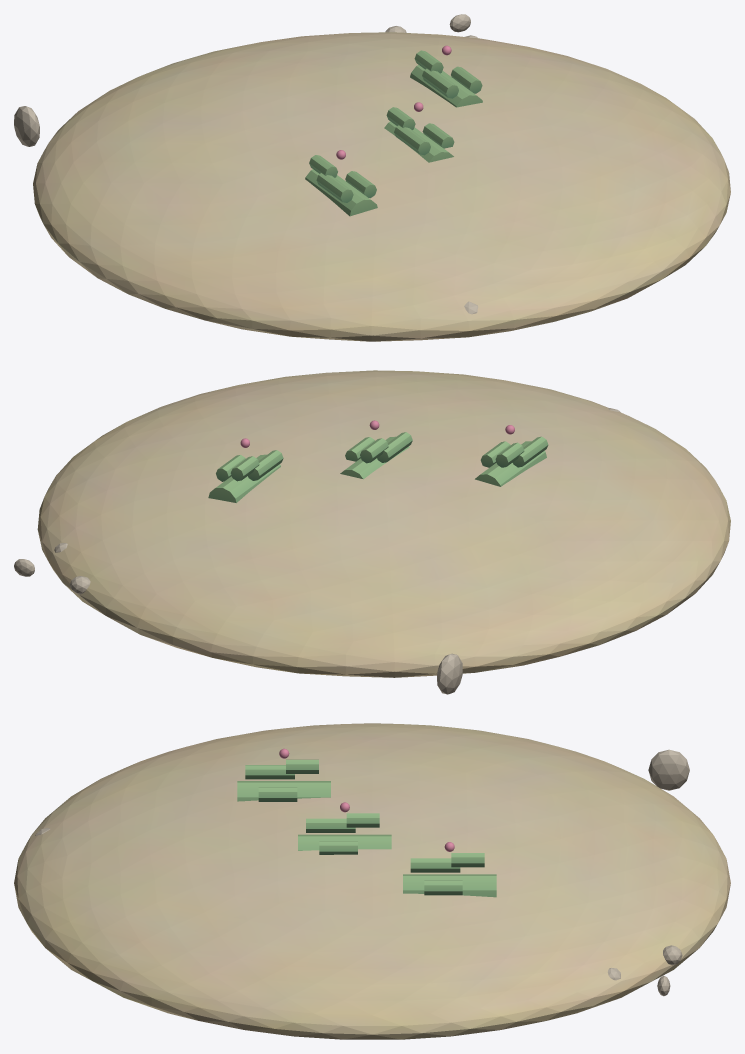
Rendered from desert-fauna.glb.
3 views of the same model, one above another, from view 1: azimuth 30°, elevation 25°; view 2: azimuth 150°, elevation 25°; view 3: azimuth 270°, elevation 25° (orthographic). The views are drawn at different scales.
Visible parts, largest first — view 1: dune, cactus_body_1, cactus_body_2, rock_1, cactus_arm_1_1, cactus_arm_2_1, cactus_body_0, cactus_arm_0_1; view 2: dune, cactus_body_2, cactus_body_1, rock_1, cactus_body_0, cactus_arm_0_1; view 3: dune, cactus_body_2, rock_1, cactus_body_1, cactus_body_0, cactus_arm_2_1, cactus_arm_0_1, cactus_arm_1_1, cactus_arm_2_0, cactus_arm_1_0, cactus_arm_0_0.
Part boxes in pixels (bbox=[...]): dune: bbox=[33, 32, 730, 341]; cactus_body_1: bbox=[305, 169, 377, 216]; cactus_body_2: bbox=[410, 65, 482, 107]; rock_1: bbox=[14, 106, 39, 146]; cactus_arm_1_1: bbox=[316, 173, 353, 202]; cactus_arm_2_1: bbox=[422, 68, 458, 98]; cactus_body_0: bbox=[384, 121, 453, 162]; cactus_arm_0_1: bbox=[394, 125, 430, 155]; dune: bbox=[37, 370, 730, 677]; cactus_body_2: bbox=[208, 454, 280, 502]; cactus_body_1: bbox=[475, 441, 546, 486]; rock_1: bbox=[437, 653, 462, 694]; cactus_body_0: bbox=[340, 436, 409, 479]; cactus_arm_0_1: bbox=[377, 432, 412, 462]; dune: bbox=[14, 723, 730, 1039]; cactus_body_2: bbox=[403, 874, 496, 897]; rock_1: bbox=[648, 749, 689, 790]; cactus_body_1: bbox=[237, 781, 330, 801]; cactus_body_0: bbox=[298, 834, 391, 850]; cactus_arm_2_1: bbox=[410, 858, 460, 872]; cactus_arm_0_1: bbox=[306, 818, 355, 832]; cactus_arm_1_1: bbox=[245, 765, 294, 779]; cactus_arm_2_0: bbox=[424, 880, 462, 895]; cactus_arm_1_0: bbox=[258, 787, 297, 801]; cactus_arm_0_0: bbox=[319, 841, 357, 854].
Bounding box in the file's own units: 13 × 2.1 × 13.
